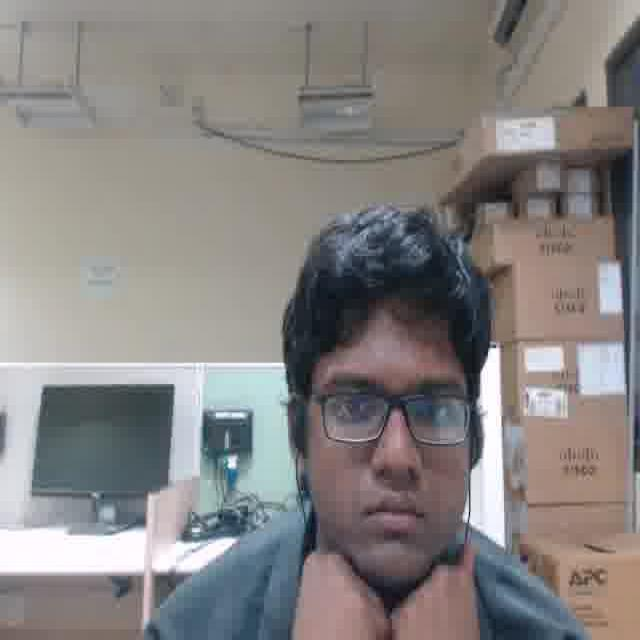Engaged: (314, 305, 469, 575)
